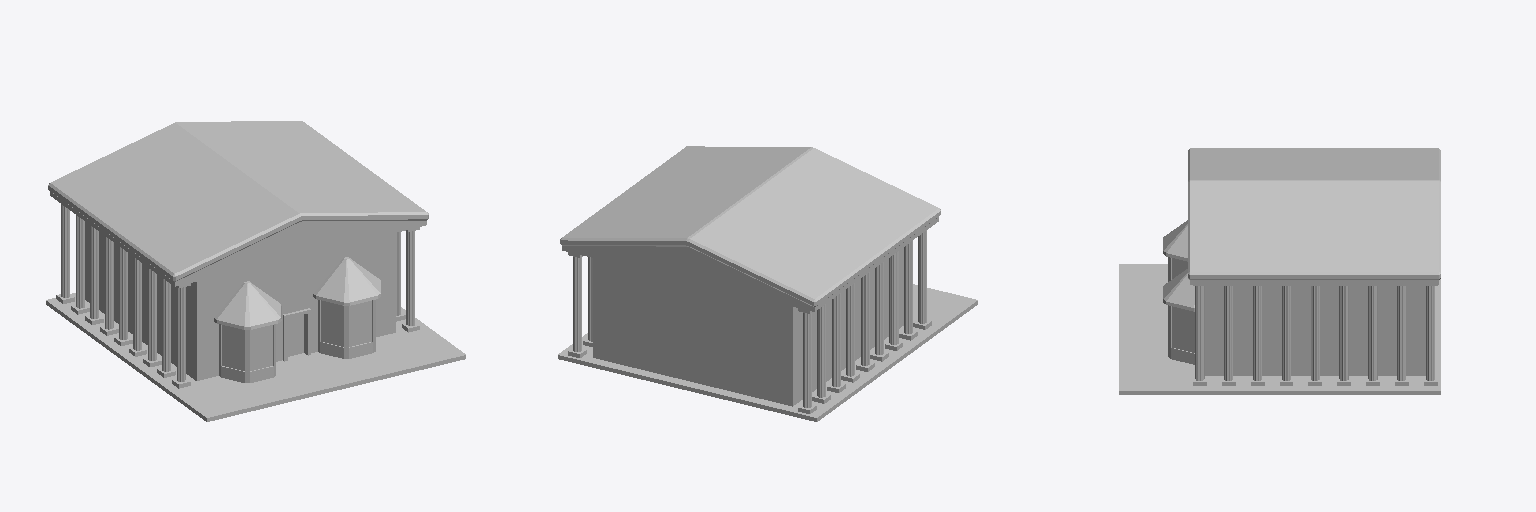
Rendered from TiendaV1.obj.
The picture shows the model from 3 angles: view 1: azimuth 30°, elevation 25°; view 2: azimuth 150°, elevation 25°; view 3: azimuth 270°, elevation 25°; orthographic projection.
Visible parts, largest first — view 1: Tienda_m Tienda; view 2: Tienda_m Tienda; view 3: Tienda_m Tienda.
Part boxes in pixels (x1,y1,x2,y2): Tienda_m Tienda: (46,121,465,421); Tienda_m Tienda: (558,146,977,421); Tienda_m Tienda: (1119,148,1440,394).
Size of the model in its own units: 1300 by 724 by 1400.